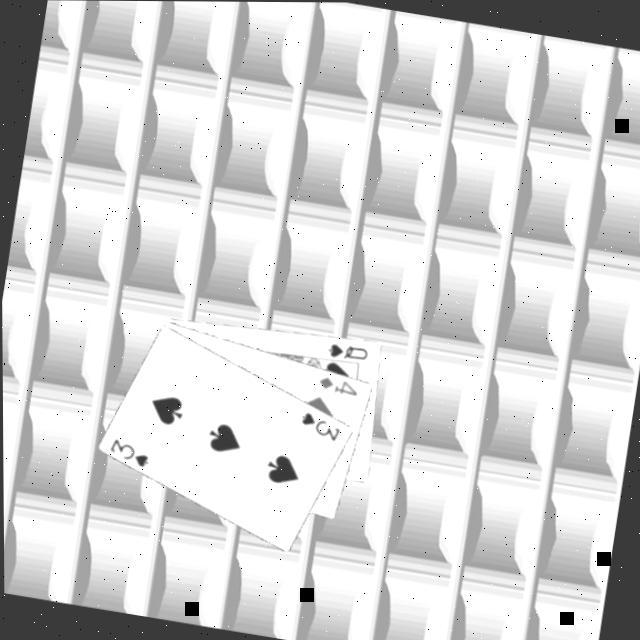3S: (292, 409, 343, 446), (101, 436, 152, 473)
4D: (312, 373, 361, 401)
QS: (320, 339, 369, 366)
